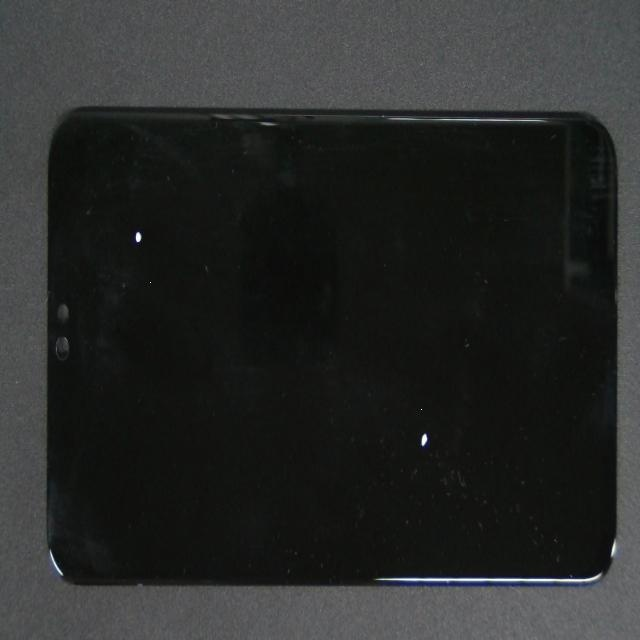stain: (221, 193, 634, 617), (58, 119, 175, 361)
